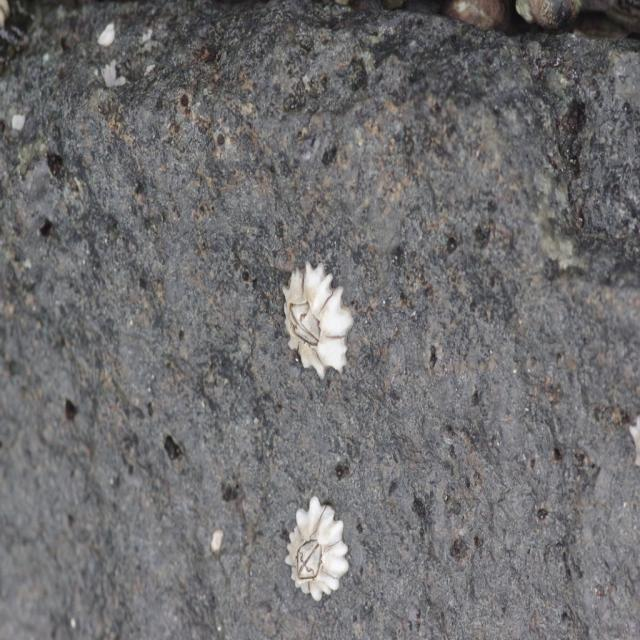barnacles: (273, 252, 358, 384), (278, 495, 354, 610)
